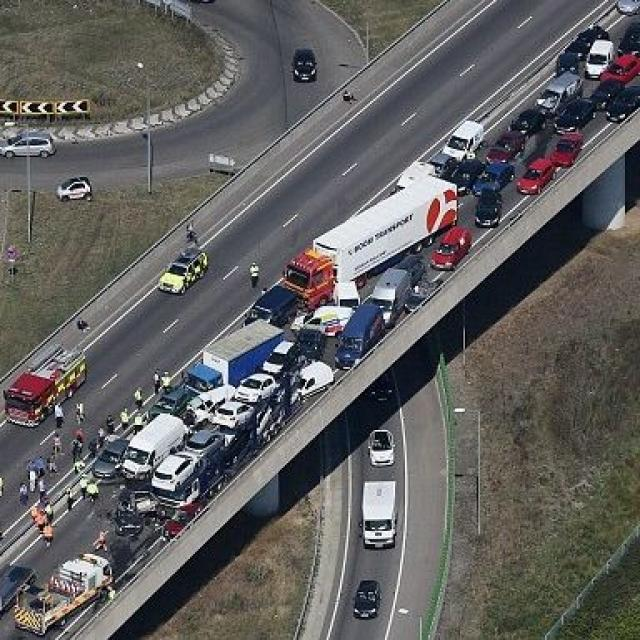traffic_incident: (155, 182, 400, 499)
